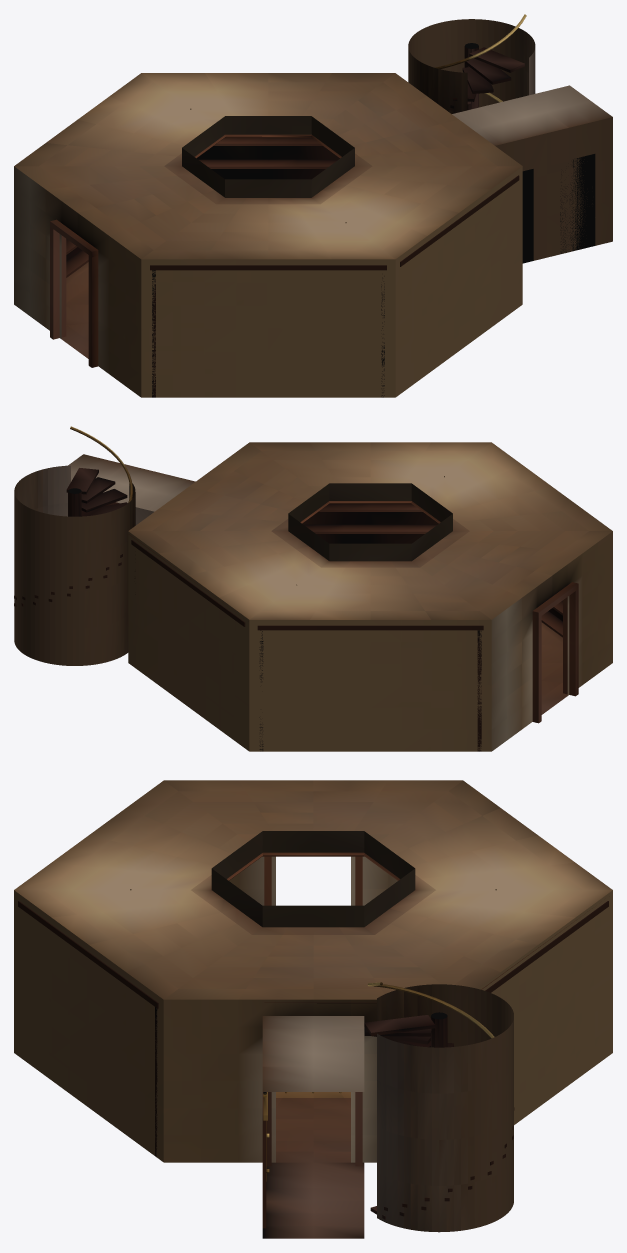
File: babel.glb
The picture shows the model from 3 angles, top to bottom: view 1: azimuth 30°, elevation 25°; view 2: azimuth 150°, elevation 25°; view 3: azimuth 270°, elevation 25°; orthographic projection. The views are drawn at different scales.
Visible parts, largest first — view 1: bab_walls, bab_ceiling, bab_hall_walls, bab_shelves, bab_stairwell, bab_shaft_lip, bab_hall_ceiling, bab_trim, bab_closet_doors, bab_stairs, bab_floor; view 2: bab_walls, bab_ceiling, bab_stairwell, bab_shelves, bab_shaft_lip, bab_trim, bab_hall_ceiling, bab_stairs, bab_floor; view 3: bab_ceiling, bab_walls, bab_stairwell, bab_shaft_lip, bab_hall_ceiling, bab_hall_floor, bab_floor, bab_trim, bab_stairs, bab_shelves.
Boxes of the visible parts, x1=… form: bab_walls: x1=14, y1=166, x2=522, y2=397; bab_ceiling: x1=14, y1=73, x2=522, y2=259; bab_hall_walls: x1=495, y1=117, x2=612, y2=260; bab_shelves: x1=66, y1=138, x2=519, y2=397; bab_stairwell: x1=408, y1=19, x2=535, y2=113; bab_shaft_lip: x1=182, y1=116, x2=354, y2=197; bab_hall_ceiling: x1=452, y1=85, x2=612, y2=145; bab_trim: x1=50, y1=134, x2=341, y2=367; bab_closet_doors: x1=522, y1=154, x2=595, y2=263; bab_stairs: x1=435, y1=43, x2=524, y2=109; bab_floor: x1=61, y1=262, x2=88, y2=358; bab_walls: x1=128, y1=531, x2=612, y2=751; bab_ceiling: x1=128, y1=442, x2=612, y2=619; bab_stairwell: x1=14, y1=465, x2=135, y2=665; bab_shelves: x1=131, y1=504, x2=562, y2=751; bab_shaft_lip: x1=288, y1=483, x2=452, y2=561; bab_trim: x1=128, y1=501, x2=578, y2=723; bab_hall_ceiling: x1=68, y1=454, x2=195, y2=511; bab_stairs: x1=14, y1=468, x2=135, y2=606; bab_floor: x1=541, y1=622, x2=567, y2=714; bab_ceiling: x1=14, y1=780, x2=612, y2=999; bab_walls: x1=14, y1=856, x2=612, y2=1162; bab_stairwell: x1=377, y1=984, x2=513, y2=1232; bab_shaft_lip: x1=211, y1=831, x2=415, y2=927; bab_hall_ceiling: x1=262, y1=1016, x2=364, y2=1091; bab_hall_floor: x1=262, y1=1162, x2=364, y2=1238; bab_floor: x1=276, y1=1092, x2=350, y2=1162; bab_trim: x1=227, y1=852, x2=589, y2=1166; bab_stairs: x1=364, y1=1012, x2=514, y2=1219; bab_shelves: x1=18, y1=901, x2=608, y2=1156.
Bounding box in the file's own units: 11.81 × 4.32 × 10.
